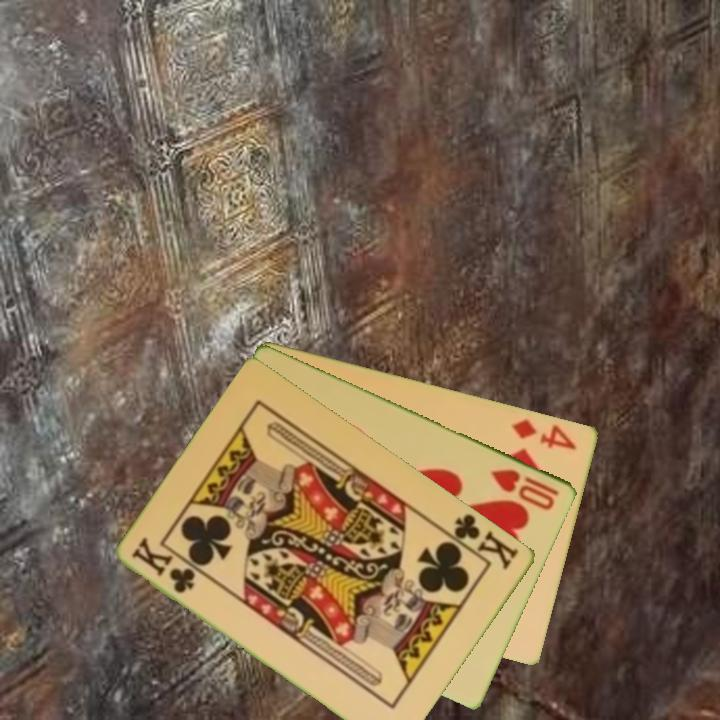10h: (487, 465, 563, 513)
4d: (508, 415, 580, 453)
Kc: (442, 509, 522, 573), (128, 534, 200, 597)
